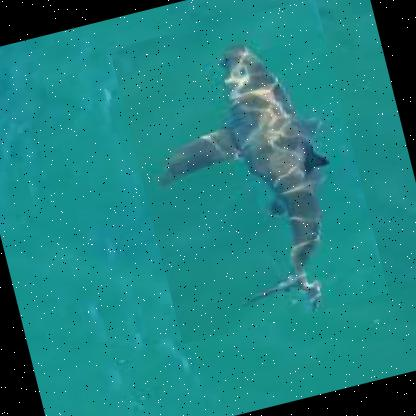sperm_whale: (109, 0, 390, 345)
